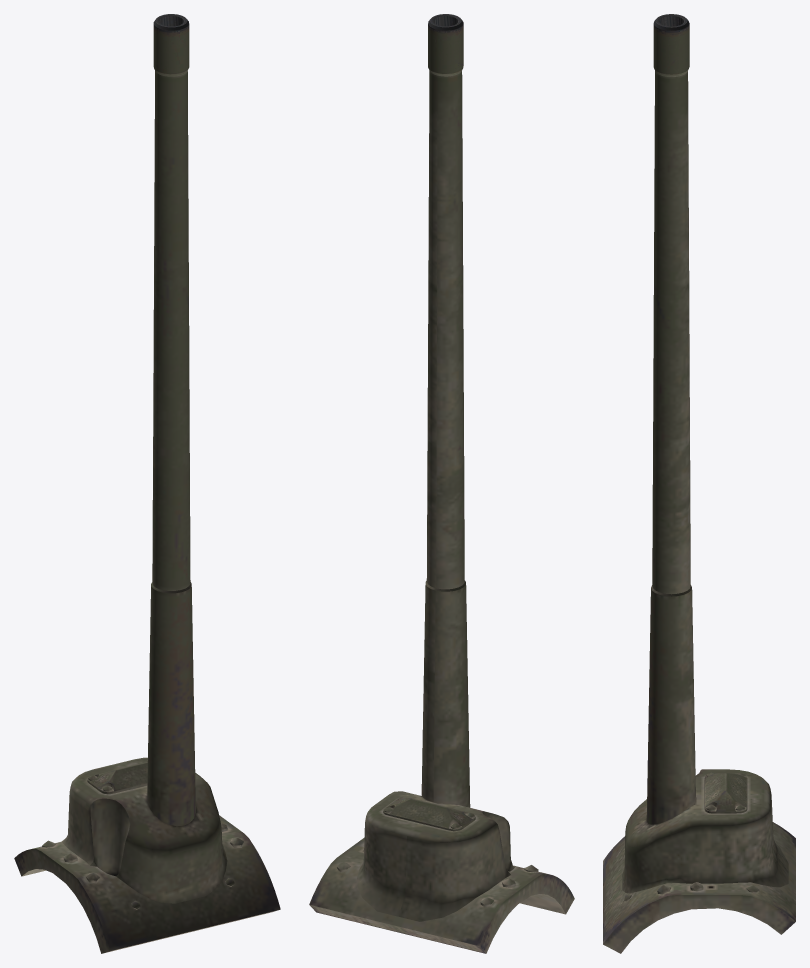
The model's file is Gun_04.glb.
3 views of the same model, side by side, from view 1: azimuth 30°, elevation 25°; view 2: azimuth 150°, elevation 25°; view 3: azimuth 270°, elevation 25° (orthographic).
Parts seen in each view (by area): view 1: set_0_group_0; view 2: set_0_group_0; view 3: set_0_group_0.
Part boxes in pixels (left/top/right/bottom): set_0_group_0: left=14, top=14, right=280, bottom=953; set_0_group_0: left=309, top=14, right=574, bottom=953; set_0_group_0: left=603, top=14, right=795, bottom=953.
Bounding box in the file's own units: 0.6619 × 3.31 × 0.6453.
Materials: 1 (1 with a texture image).
